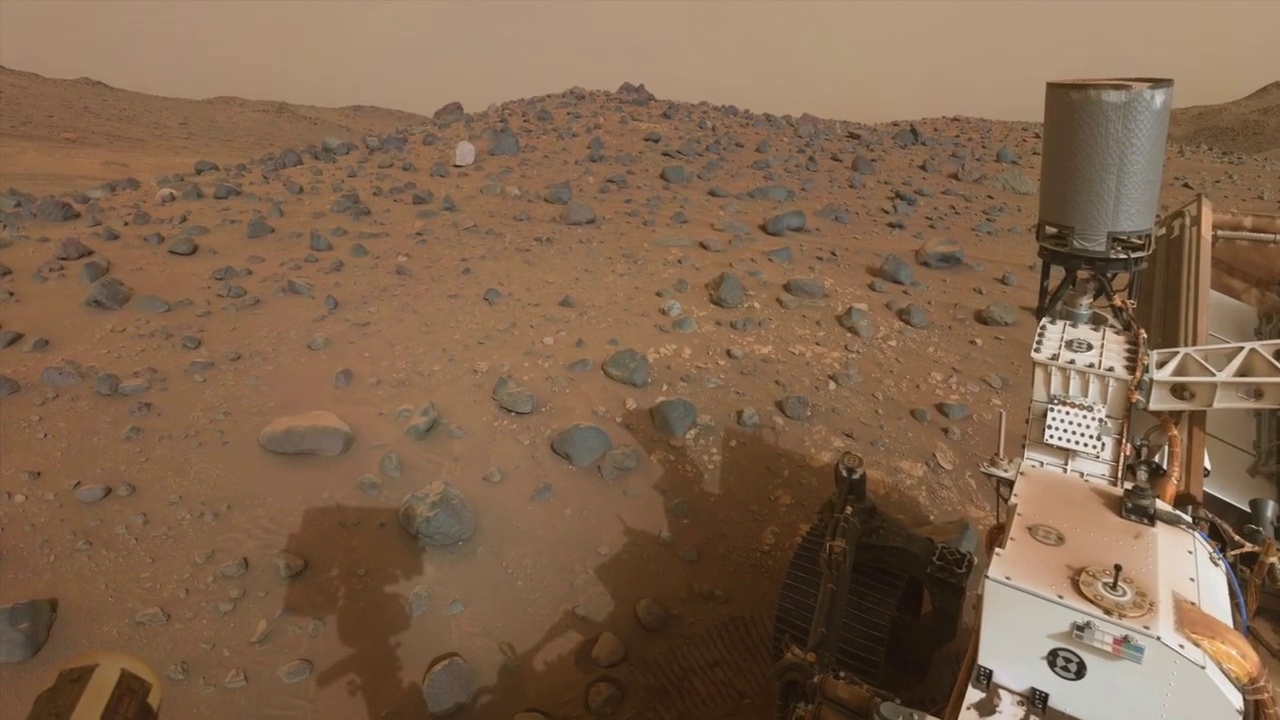rock: (866, 256, 919, 295), (601, 353, 648, 389), (757, 210, 811, 237), (705, 274, 745, 309), (168, 226, 210, 257), (1098, 564, 1132, 602), (774, 396, 816, 422), (885, 302, 925, 329), (971, 206, 1004, 237), (972, 306, 1017, 327), (834, 307, 862, 337), (933, 402, 973, 422)
